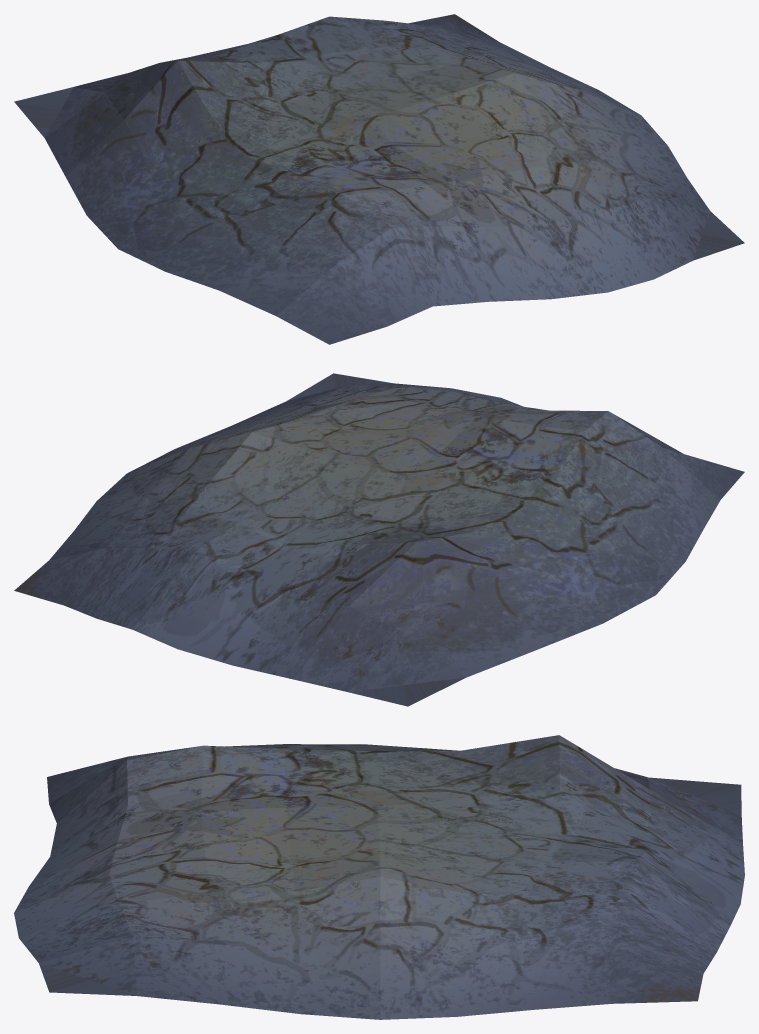
File: road.fbx
The picture shows the model from 3 angles, top to bottom: view 1: azimuth 30°, elevation 25°; view 2: azimuth 150°, elevation 25°; view 3: azimuth 270°, elevation 25°; orthographic projection. The views are drawn at different scales.
Visible parts, largest first — view 1: Plane.001; view 2: Plane.001; view 3: Plane.001.
Part boxes in pixels (x1,y1,x2,y2): Plane.001: (14,14,744,344); Plane.001: (14,373,744,706); Plane.001: (14,735,744,1019).
Bounding box in the file's own units: 2357 × 361 × 2665.
Materials: 1 (1 with a texture image).
